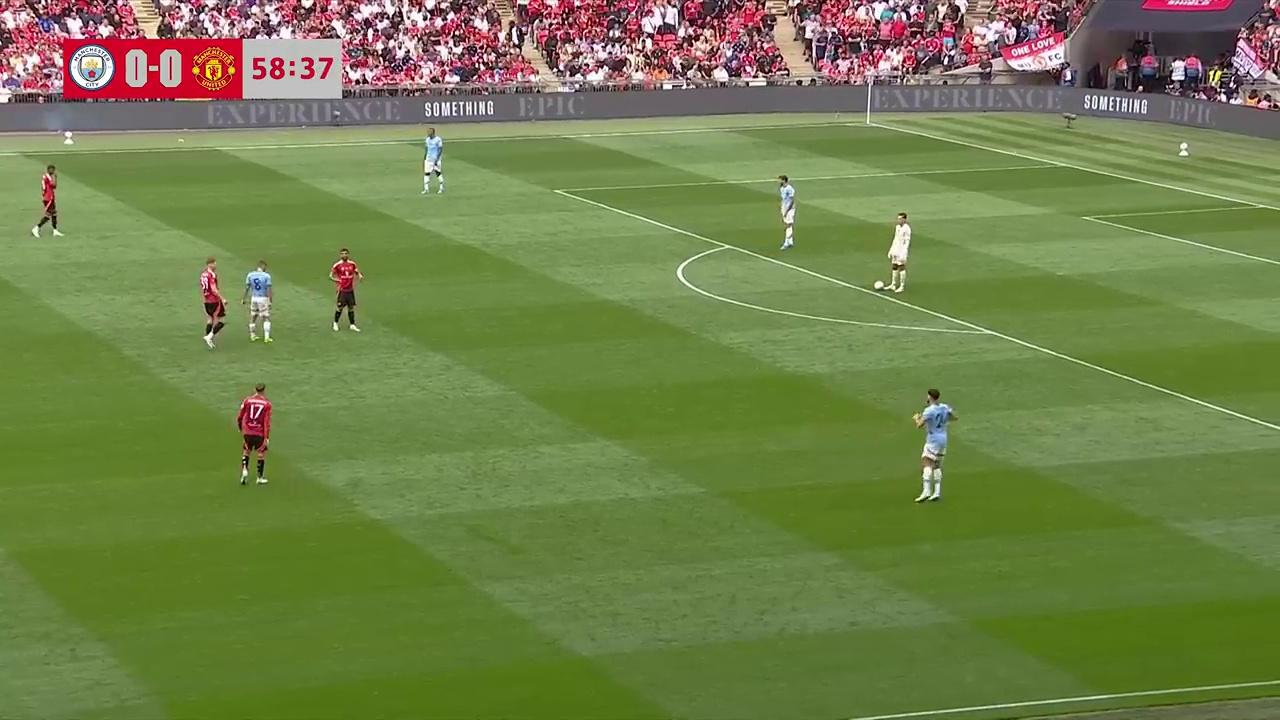ball: (873, 278, 884, 291)
player: (913, 388, 959, 504), (235, 383, 271, 487), (913, 389, 958, 468), (329, 247, 363, 333), (243, 260, 273, 342), (32, 164, 63, 238), (200, 270, 227, 350), (887, 212, 911, 292), (421, 129, 444, 194), (777, 176, 797, 250)
